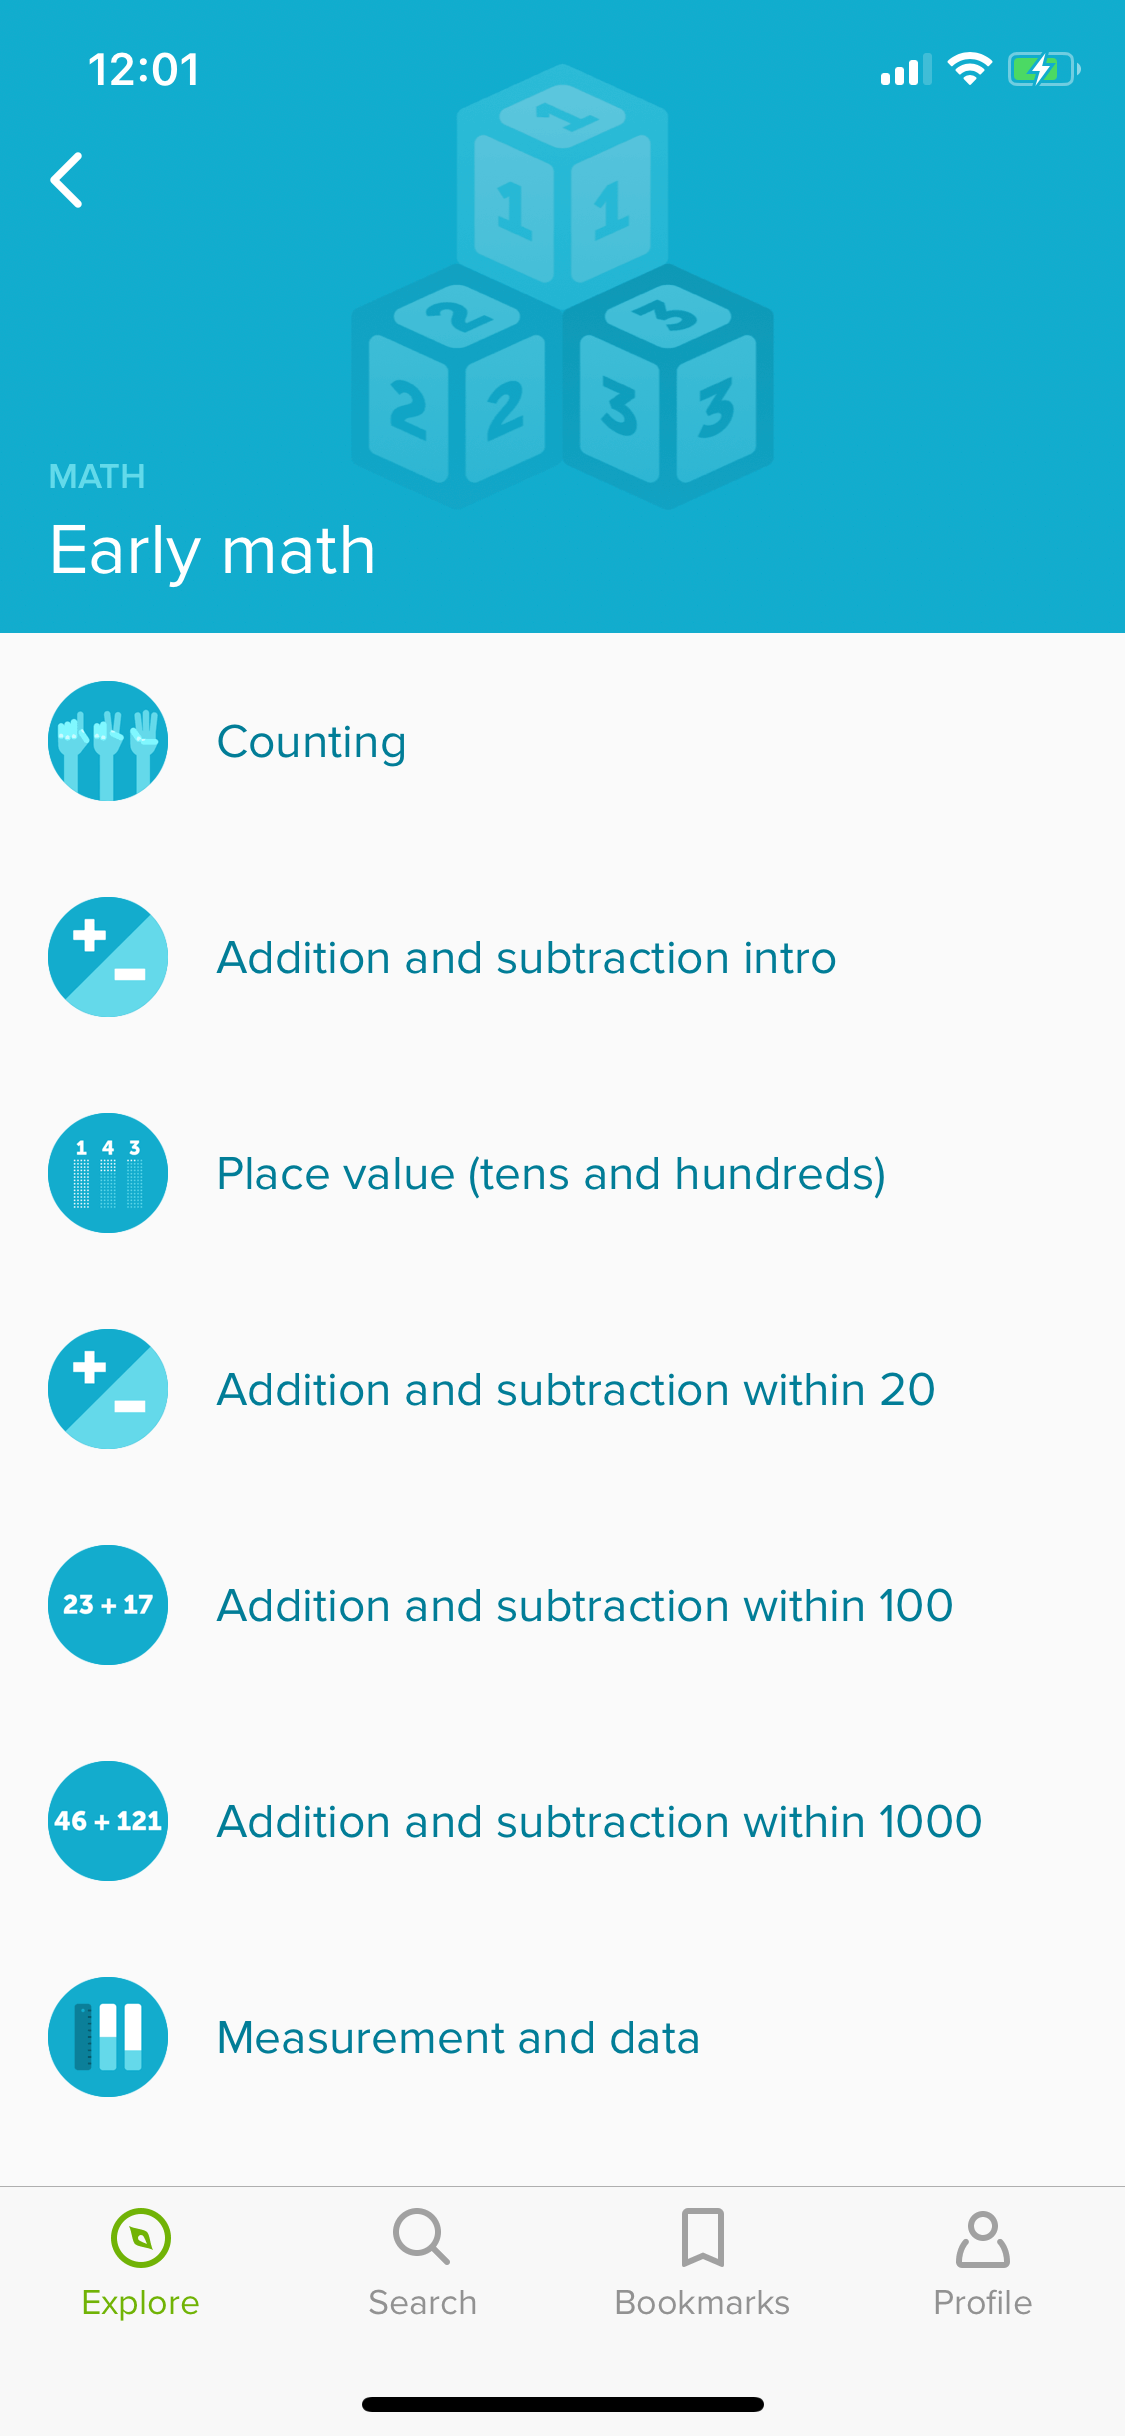Buttons: (5, 121, 141, 242)
